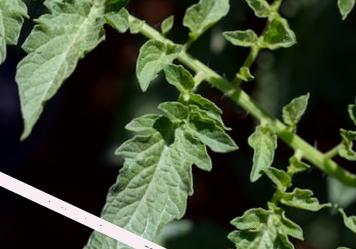Tomato leaf mosaic virus: (82, 91, 222, 247), (0, 0, 122, 160), (121, 26, 187, 102), (229, 115, 291, 191), (170, 0, 232, 56), (155, 59, 198, 98)
